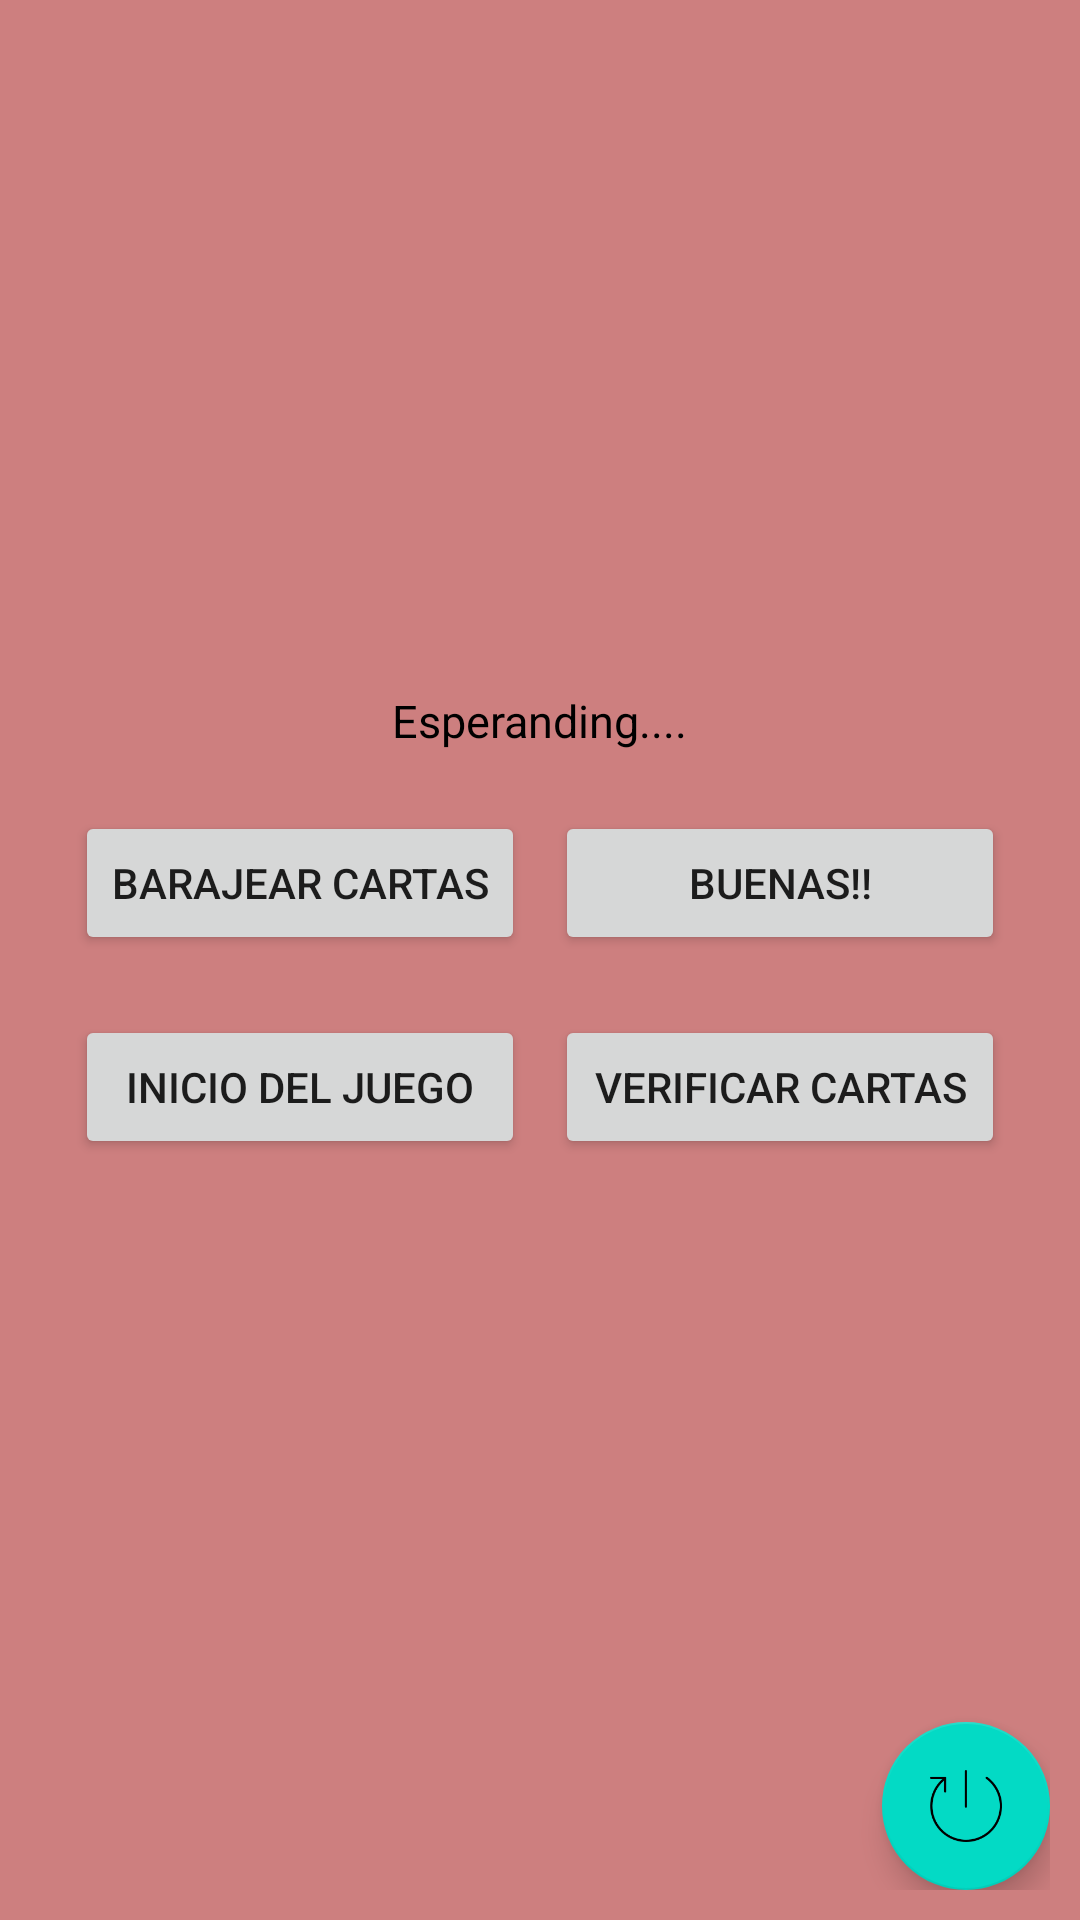

Screen size 1080×1920. Icon name, then its box in pixels as bbox(x1, y1, x2, y2):
restart: bbox(882, 1722, 1050, 1890)
